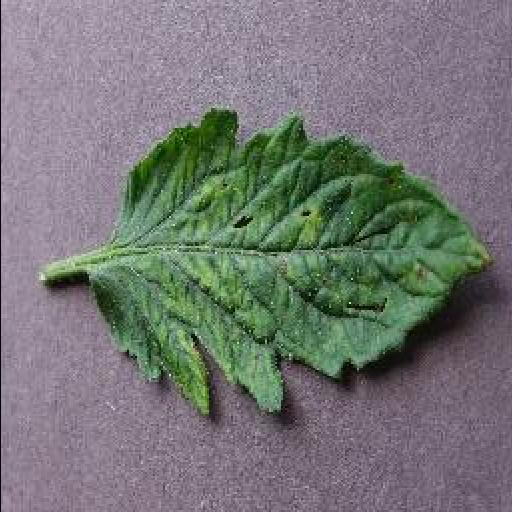Mosaic Virus: (92, 112, 496, 426)
